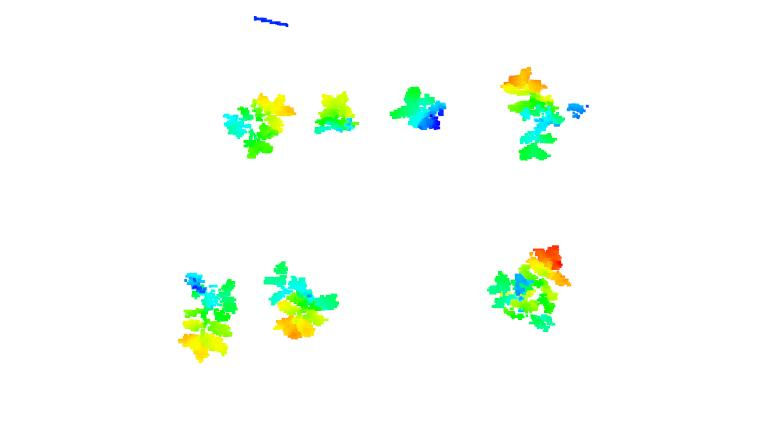chickpea: (485, 241, 572, 335), (172, 267, 244, 364), (502, 65, 570, 164), (263, 258, 339, 343), (220, 89, 300, 162), (388, 84, 449, 134), (309, 90, 367, 136)
